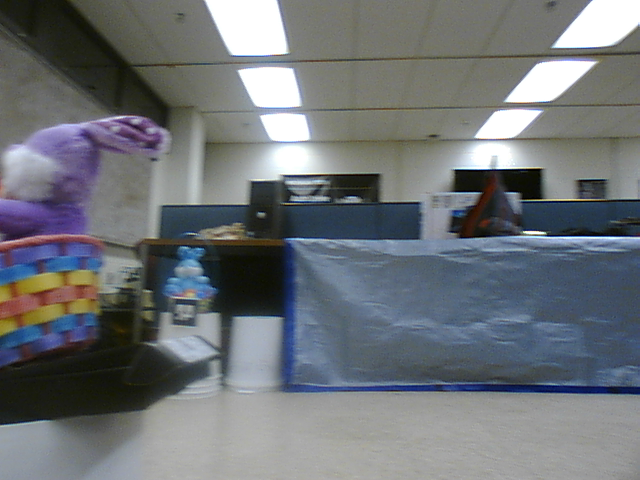bunny: (1, 113, 175, 369), (162, 231, 213, 318)
